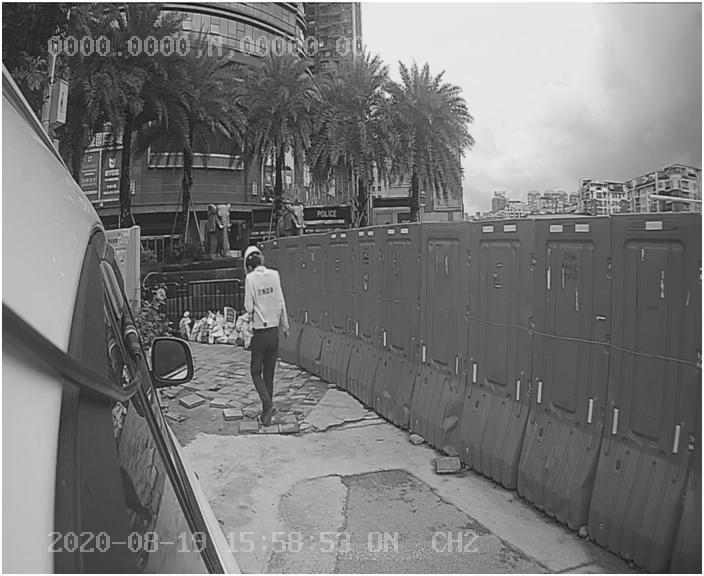person: (230, 246, 302, 425)
